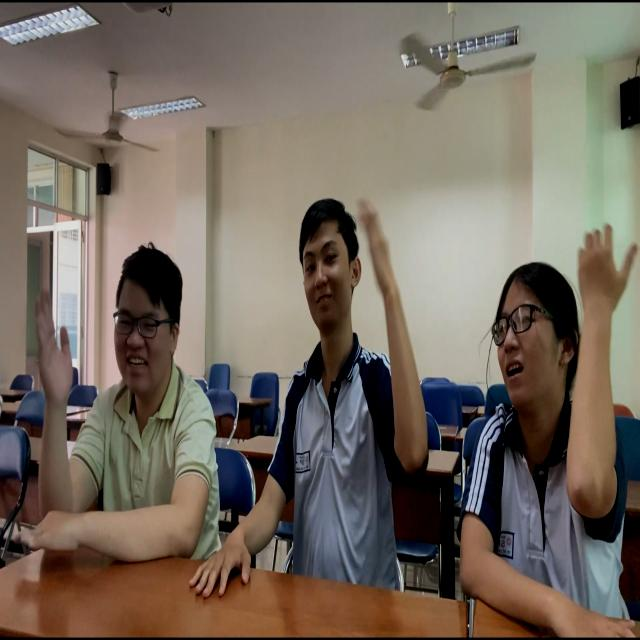raise_hand: (30, 225, 225, 573)
